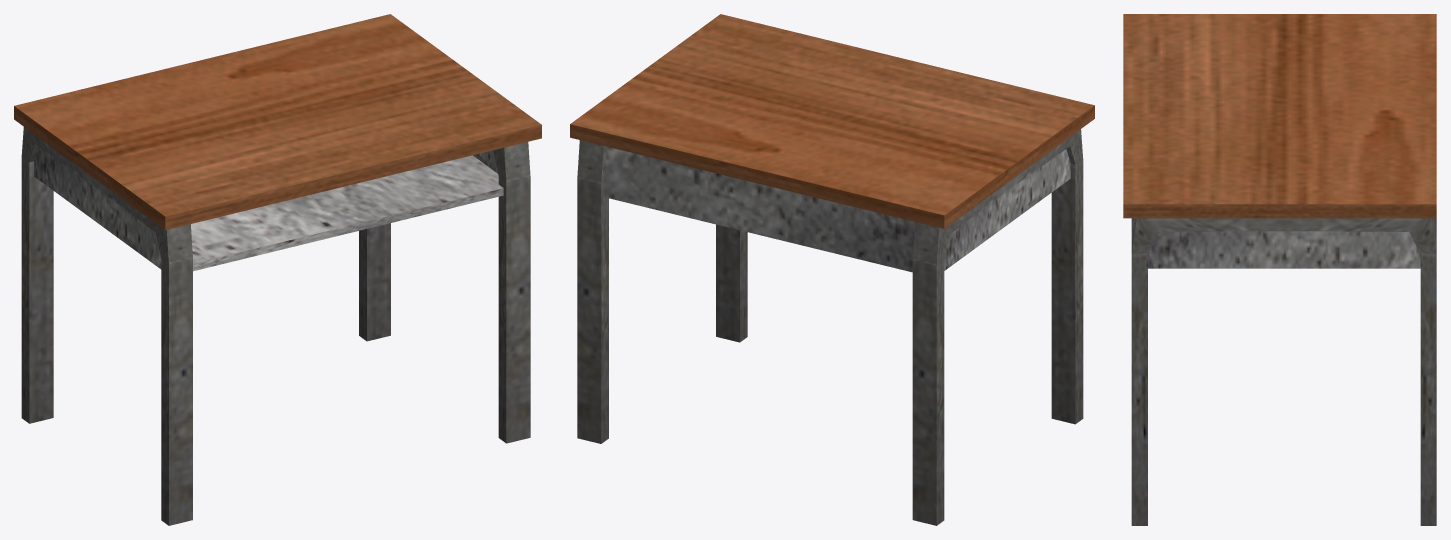
File: studentDecks002.fbx
3 views of the same model, side by side, from view 1: azimuth 30°, elevation 25°; view 2: azimuth 150°, elevation 25°; view 3: azimuth 270°, elevation 25° (orthographic). The views are drawn at different scales.
Visible parts, largest first — view 1: Cube; view 2: Cube; view 3: Cube.
Boxes of the visible parts, <box> form: Cube: <box>14,14,541,525</box>; Cube: <box>570,14,1094,525</box>; Cube: <box>1123,14,1436,525</box>.
Size of the model in its own units: 270 by 215 by 188.
6 materials, 6 textured.
